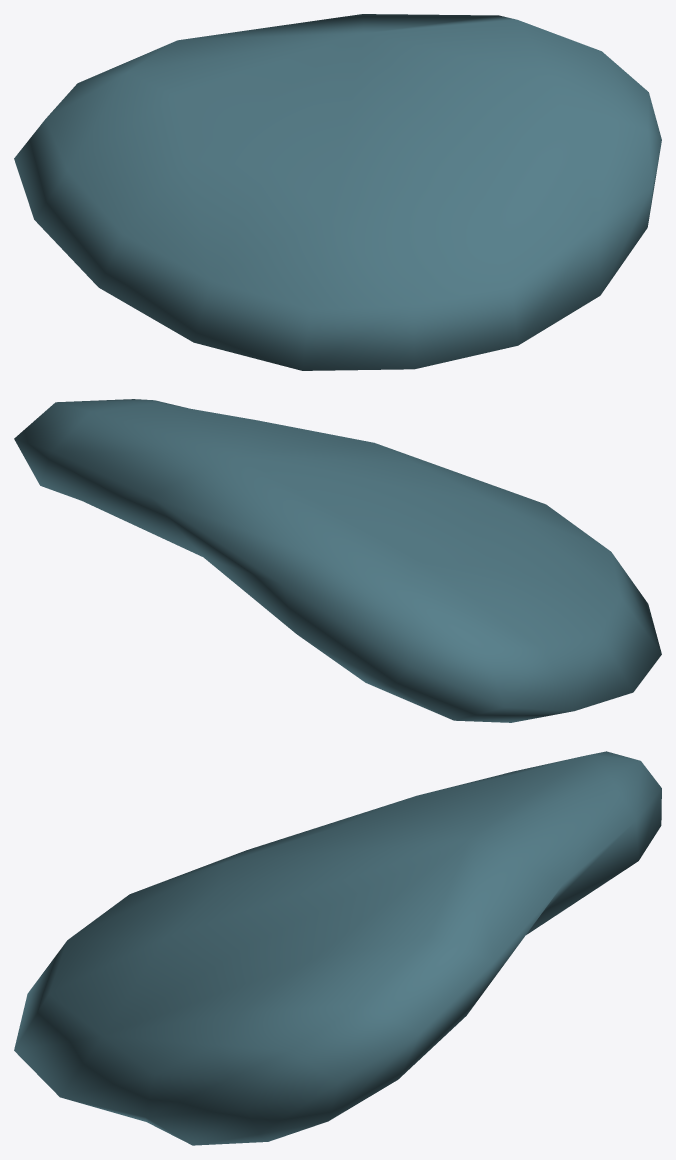
Rendered from Extensor_digitorum_5th_distal_phalanx_right.glb.
The picture shows the model from 3 angles, top to bottom: view 1: azimuth 30°, elevation 25°; view 2: azimuth 150°, elevation 25°; view 3: azimuth 270°, elevation 25°; orthographic projection. The views are drawn at different scales.
Visible parts, largest first — view 1: Extensor_digitorum_on_5th_distal_phalanx.r_Generated_Mesh_Fr; view 2: Extensor_digitorum_on_5th_distal_phalanx.r_Generated_Mesh_Fr; view 3: Extensor_digitorum_on_5th_distal_phalanx.r_Generated_Mesh_Fr.
Boxes of the visible parts, bbox=[...] form: Extensor_digitorum_on_5th_distal_phalanx.r_Generated_Mesh_Fr: bbox=[14, 14, 661, 370]; Extensor_digitorum_on_5th_distal_phalanx.r_Generated_Mesh_Fr: bbox=[14, 399, 661, 722]; Extensor_digitorum_on_5th_distal_phalanx.r_Generated_Mesh_Fr: bbox=[14, 751, 661, 1145].
Size of the model in its own units: 0.00286 by 0.000989 by 0.00234.
